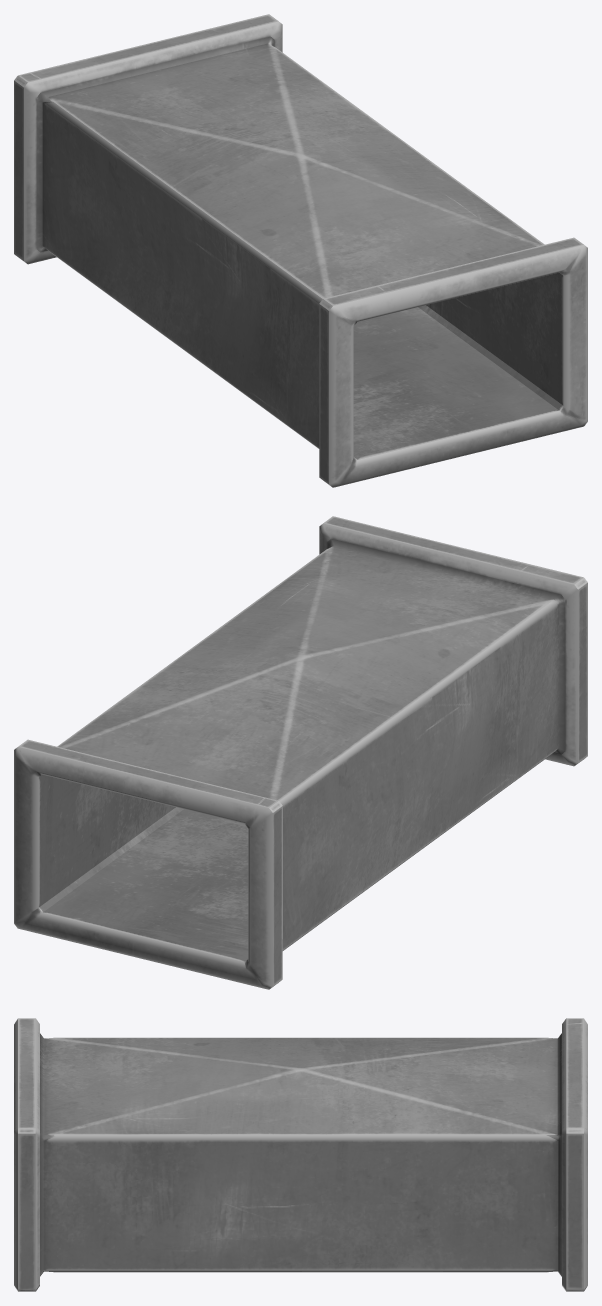
The model's file is SM_Channel1.fbx.
3 views of the same model, one above another, from view 1: azimuth 30°, elevation 25°; view 2: azimuth 150°, elevation 25°; view 3: azimuth 270°, elevation 25° (orthographic). The views are drawn at different scales.
Visible parts, largest first — view 1: SM_Channel1_LOD0; view 2: SM_Channel1_LOD0; view 3: SM_Channel1_LOD0.
Part boxes in pixels (x1,y1,x2,y2): SM_Channel1_LOD0: (14, 14, 587, 487); SM_Channel1_LOD0: (14, 516, 587, 989); SM_Channel1_LOD0: (14, 1018, 587, 1291).
Bounding box in the file's own units: 89.43 × 191 × 62.68.
1 material, 1 textured.
